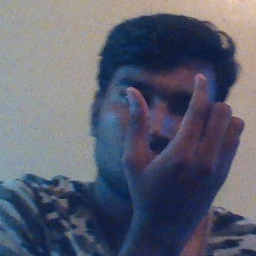U: (122, 67, 237, 206)
